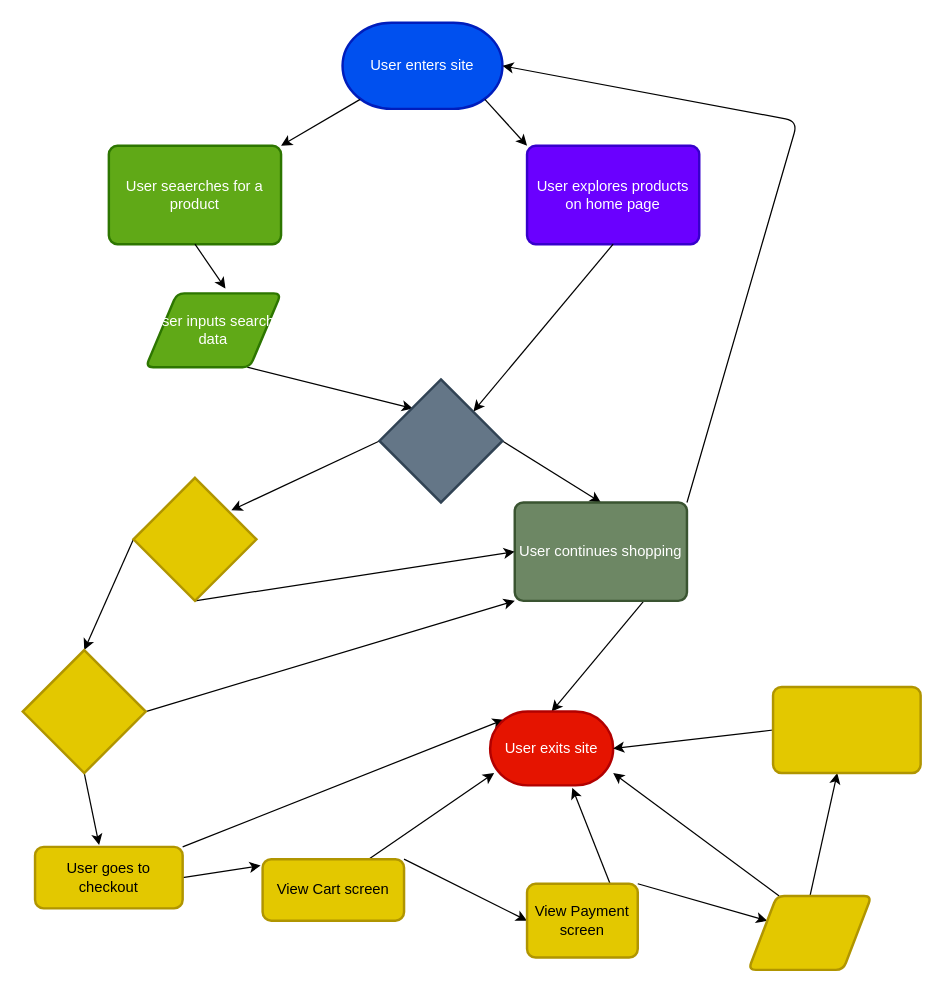
Some shapes in this 942 by 991 pixel diagram are drawn without their labels. Each missing label, with the centre of its shape:
"Input credit card info" goes at point (809, 932).
"Order confirmation screen and receive email" goes at point (846, 729).
"User adds items to cart" goes at point (83, 711).
"User beings looking at products" goes at point (440, 440).
"User views a specific product" goes at point (194, 538).
